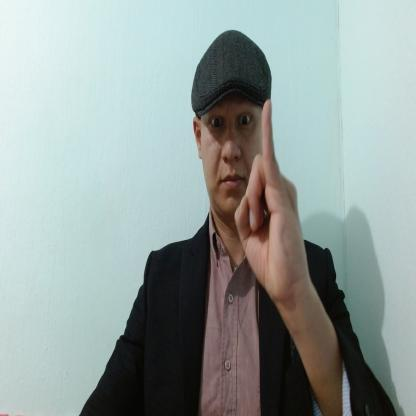I: (235, 96, 308, 302)
